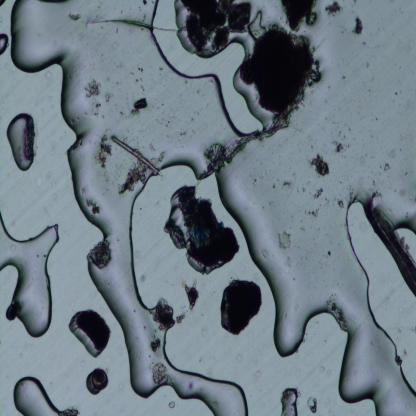Air bubble: (79, 238, 249, 414), (261, 264, 416, 412), (137, 38, 268, 138), (47, 91, 115, 247), (0, 211, 61, 341), (10, 5, 81, 99), (13, 372, 80, 414), (6, 113, 36, 173), (278, 385, 302, 416), (0, 32, 8, 56)
Background material: (230, 26, 323, 119), (361, 191, 416, 298), (179, 0, 250, 50), (96, 134, 164, 177), (221, 280, 261, 340), (70, 309, 114, 355), (280, 0, 320, 33), (87, 16, 147, 30), (84, 368, 114, 395), (153, 300, 177, 330), (182, 281, 201, 309), (332, 129, 352, 153), (310, 153, 330, 176), (274, 228, 294, 249), (131, 94, 150, 116), (80, 79, 102, 97), (304, 394, 321, 416), (326, 0, 345, 18), (85, 195, 101, 215), (353, 15, 367, 36), (307, 205, 322, 223), (314, 183, 324, 200), (70, 11, 82, 23), (281, 181, 294, 192), (338, 196, 346, 210), (381, 162, 391, 173), (140, 0, 148, 9), (0, 0, 5, 8)
Cellulose filter fibre: (201, 96, 300, 178)
Fragment: (171, 186, 243, 266)
